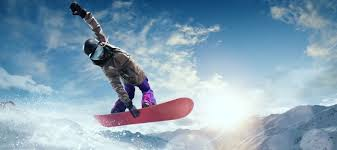snowboard: (93, 95, 194, 127)
